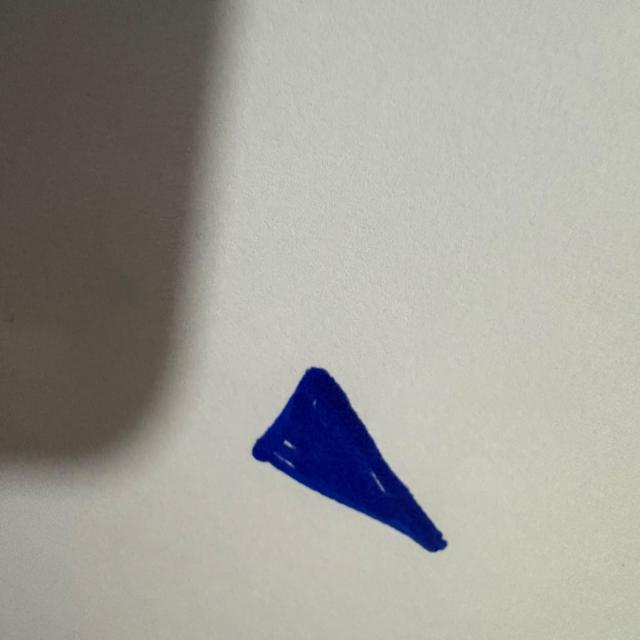Triangle: (252, 367, 447, 552)
